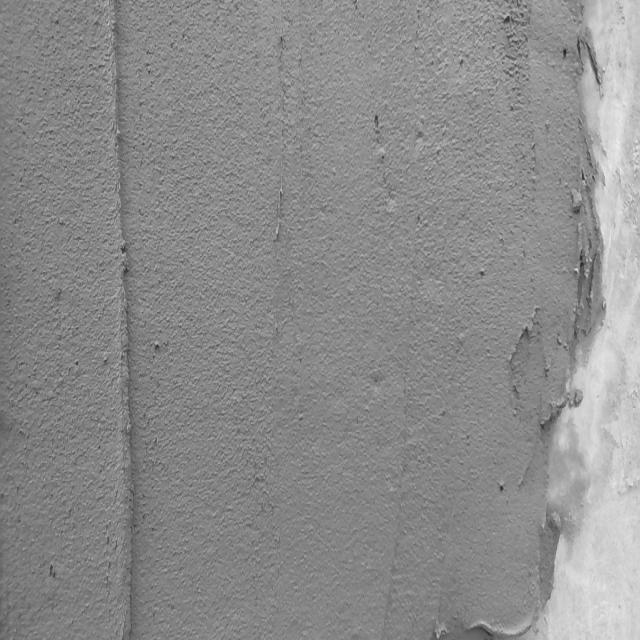trowels marks: (102, 0, 139, 640)
